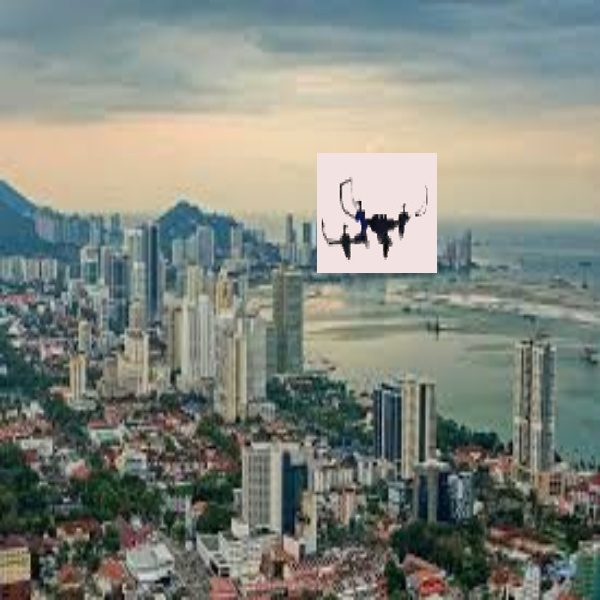drone: (321, 170, 434, 269)
